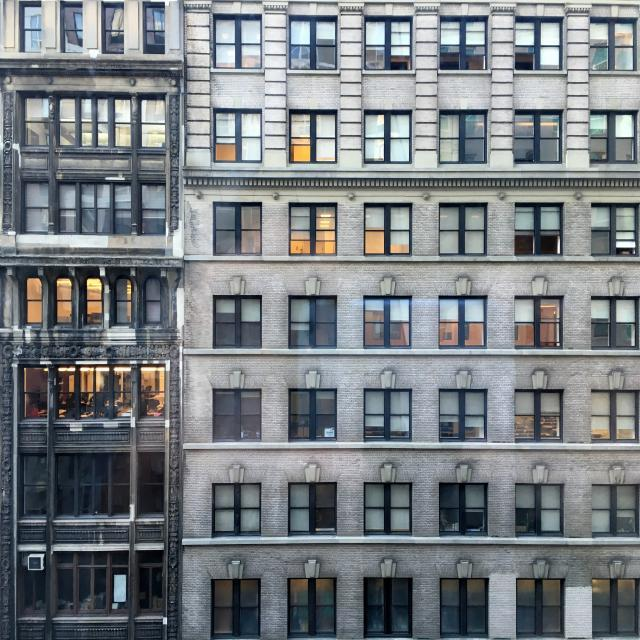Window: (23, 100, 165, 147), (22, 182, 154, 232), (26, 369, 160, 416), (57, 455, 129, 512), (55, 554, 126, 608), (213, 296, 264, 351), (288, 577, 336, 634), (214, 391, 264, 444), (516, 576, 562, 633), (442, 579, 488, 634), (288, 110, 336, 162), (212, 580, 262, 629), (364, 577, 408, 631), (440, 391, 490, 438), (212, 205, 260, 253), (214, 482, 262, 529), (513, 485, 559, 534), (361, 484, 409, 530), (366, 18, 410, 68), (290, 206, 336, 253), (290, 298, 337, 344), (592, 578, 634, 629), (516, 300, 562, 346), (289, 487, 334, 534), (588, 112, 632, 160), (364, 112, 408, 160), (368, 298, 410, 348), (288, 393, 336, 436), (363, 395, 412, 437), (291, 22, 335, 68), (516, 209, 562, 253), (440, 300, 484, 346), (516, 20, 558, 68), (217, 112, 260, 158), (593, 300, 634, 348), (214, 22, 260, 64), (517, 392, 557, 440), (442, 112, 482, 160), (593, 20, 632, 69), (440, 21, 484, 64), (440, 210, 484, 253), (442, 486, 485, 530), (367, 206, 408, 251), (594, 207, 634, 253), (593, 392, 636, 434), (516, 115, 556, 155), (136, 562, 166, 613), (24, 454, 48, 507), (137, 460, 163, 507), (594, 488, 630, 518), (22, 8, 45, 52), (62, 3, 84, 49), (104, 6, 124, 52), (145, 8, 164, 52), (115, 275, 134, 319), (24, 572, 46, 610), (23, 280, 42, 322), (84, 284, 102, 322), (56, 282, 70, 324), (146, 280, 158, 320)
